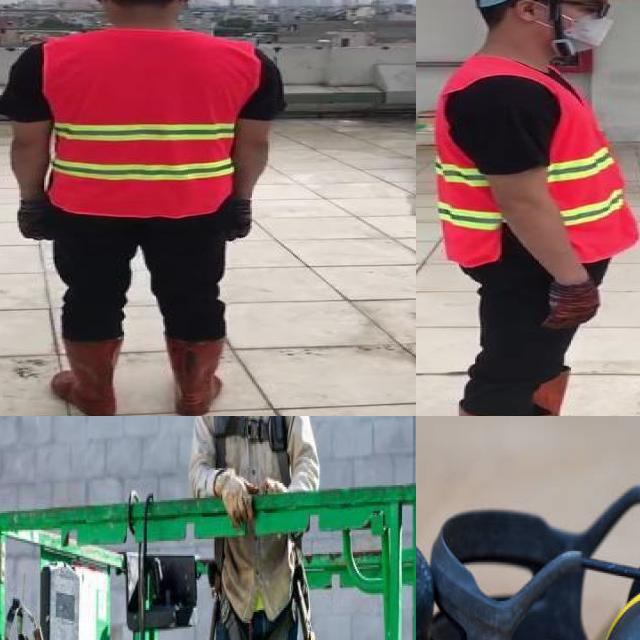Ear-protection: (429, 475, 640, 640)
Harness: (214, 416, 289, 486)
boots: (51, 338, 125, 416), (161, 334, 225, 416), (530, 371, 626, 416)
face_mask: (547, 0, 625, 56)
hand_glove: (541, 280, 601, 329), (14, 195, 54, 241), (222, 196, 254, 243)
person: (0, 0, 278, 416), (422, 0, 640, 416)
vest: (435, 60, 640, 266), (42, 31, 256, 218)
